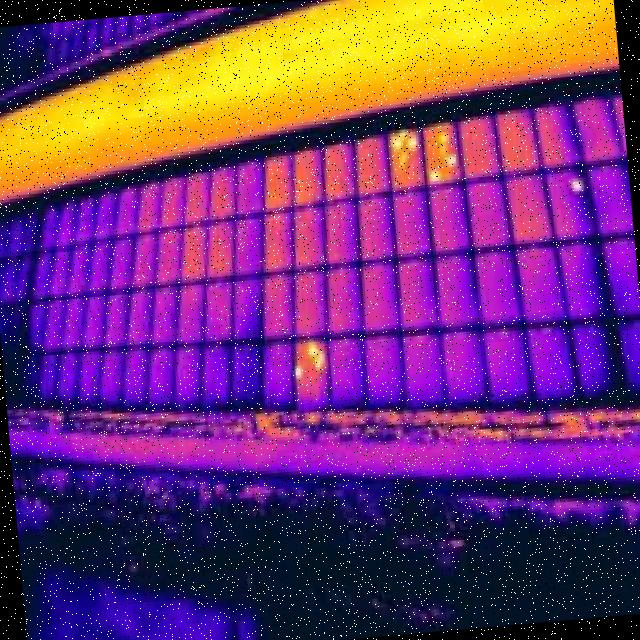Hotspot: (405, 134, 419, 151), (394, 154, 411, 168), (426, 168, 440, 185), (570, 177, 584, 194), (292, 362, 306, 378), (306, 341, 320, 355), (445, 153, 459, 167), (314, 353, 325, 370), (438, 131, 449, 148), (392, 136, 403, 148), (399, 129, 408, 142)
